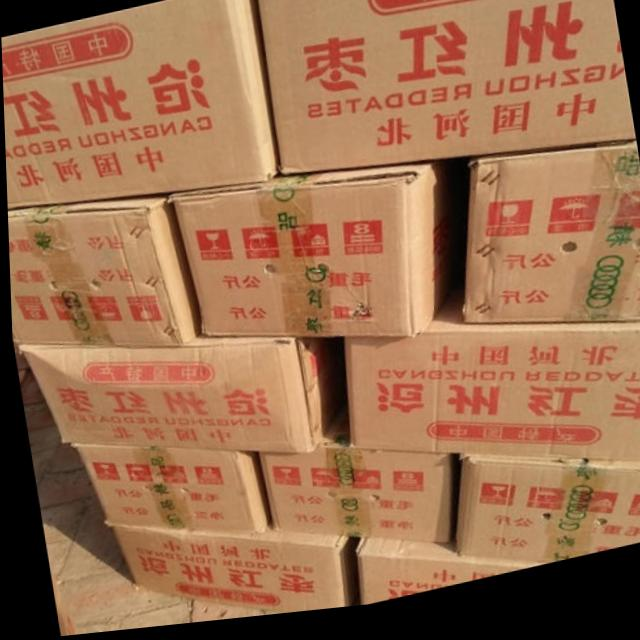box: (255, 0, 635, 176), (1, 0, 278, 210), (340, 293, 640, 473), (166, 167, 462, 346), (13, 337, 343, 461), (459, 157, 640, 333), (253, 395, 454, 553), (6, 201, 197, 348), (106, 527, 358, 618), (449, 463, 640, 573), (70, 445, 264, 538), (354, 542, 541, 610)
